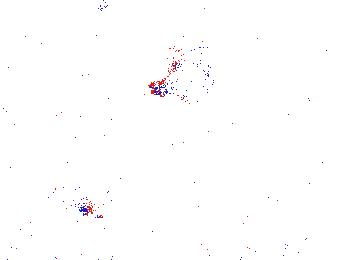flame jellyfish: (217, 167, 291, 223), (148, 56, 216, 101), (53, 166, 106, 221)
